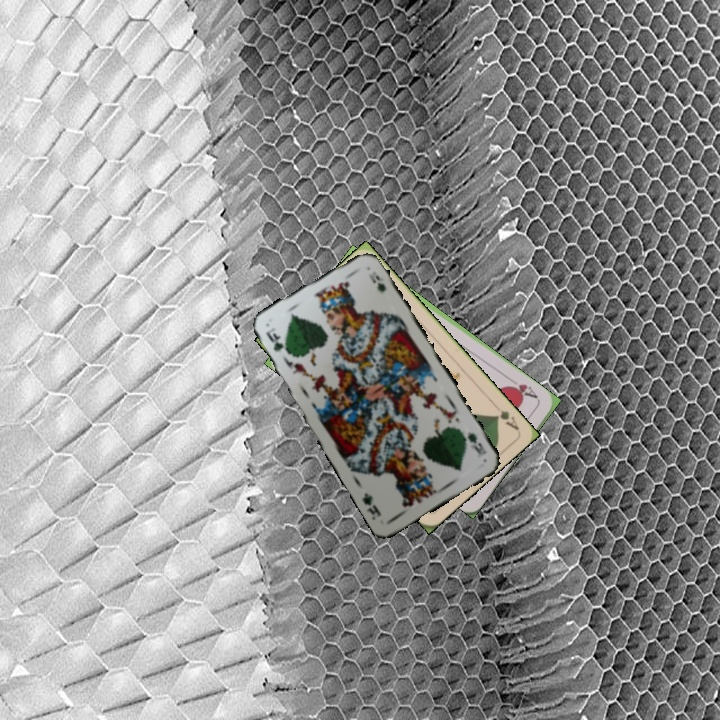GA: (491, 406, 521, 433)
GK: (458, 427, 489, 458), (262, 328, 292, 358)
HA: (503, 380, 541, 403)
